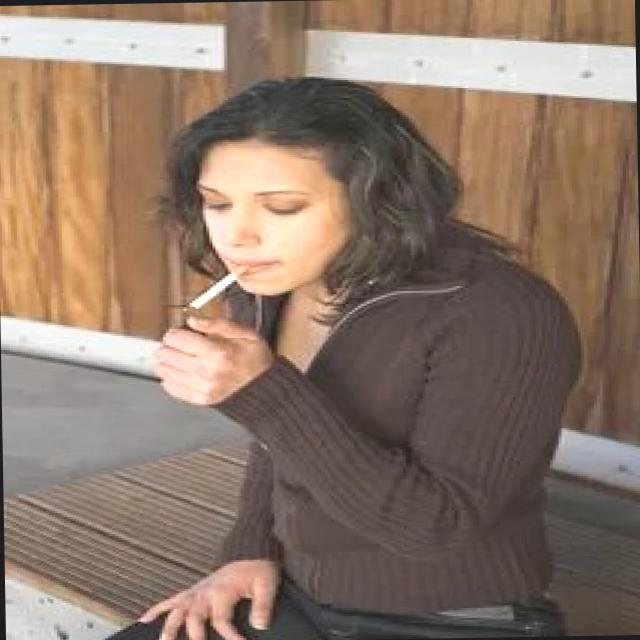smoke: (180, 258, 252, 312)
